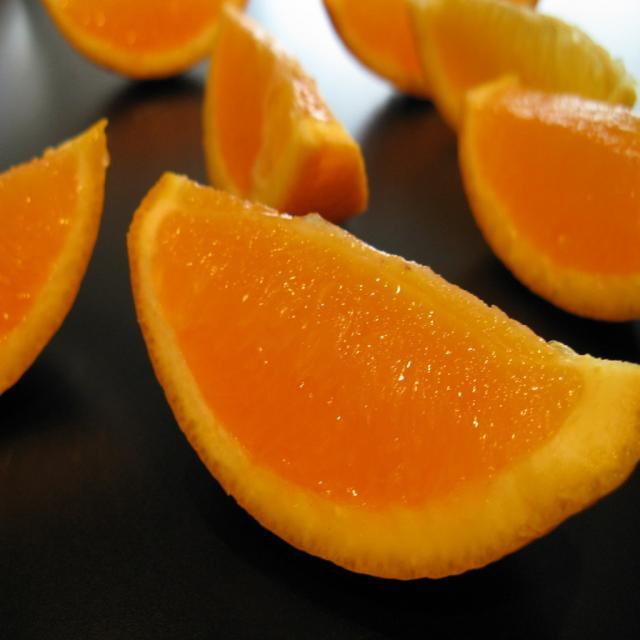Orange: (114, 173, 640, 584), (459, 77, 640, 322), (198, 8, 367, 209), (0, 114, 110, 394), (408, 4, 640, 136), (45, 0, 246, 83), (317, 0, 439, 100)
